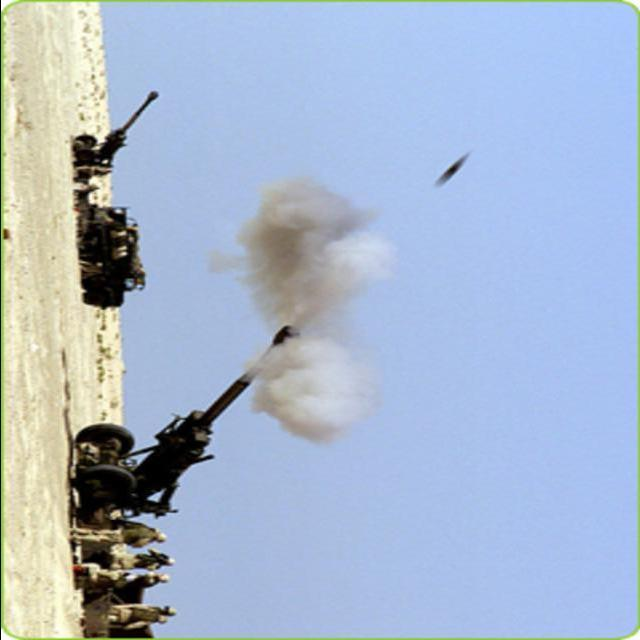Missile: (435, 149, 475, 187)
